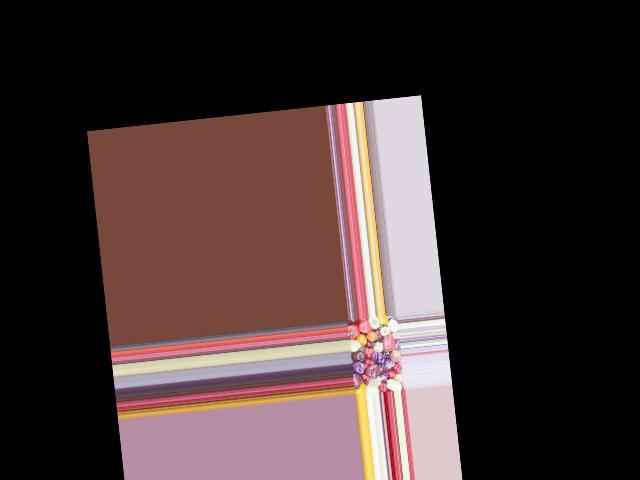bell_pepper: (368, 316, 379, 331)
